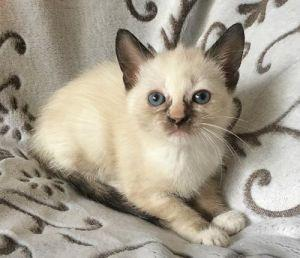siamese: (115, 18, 250, 145)
